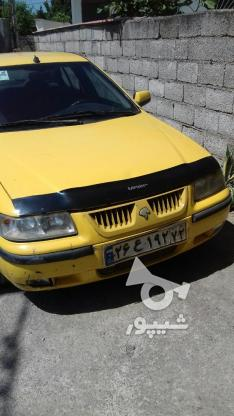car: (104, 219, 187, 266)
